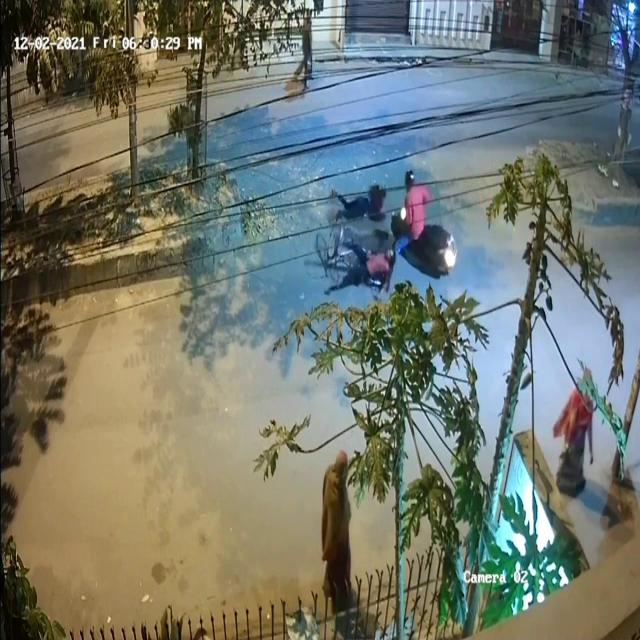accident: (316, 162, 456, 314)
